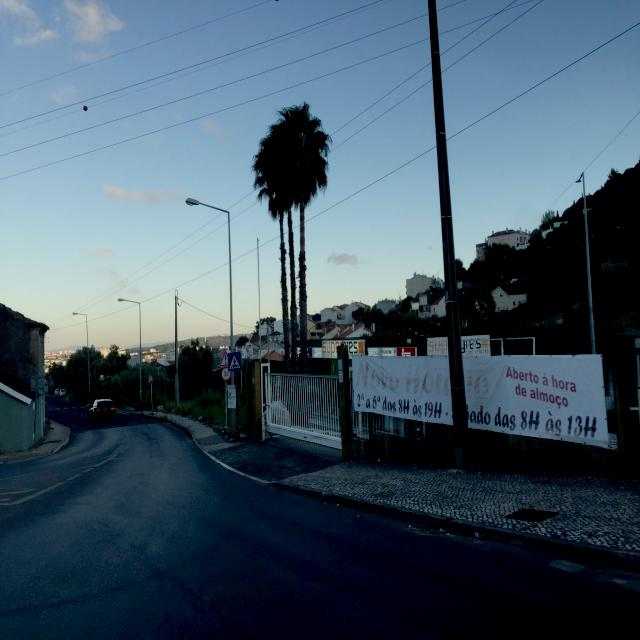car: (88, 398, 116, 422)
